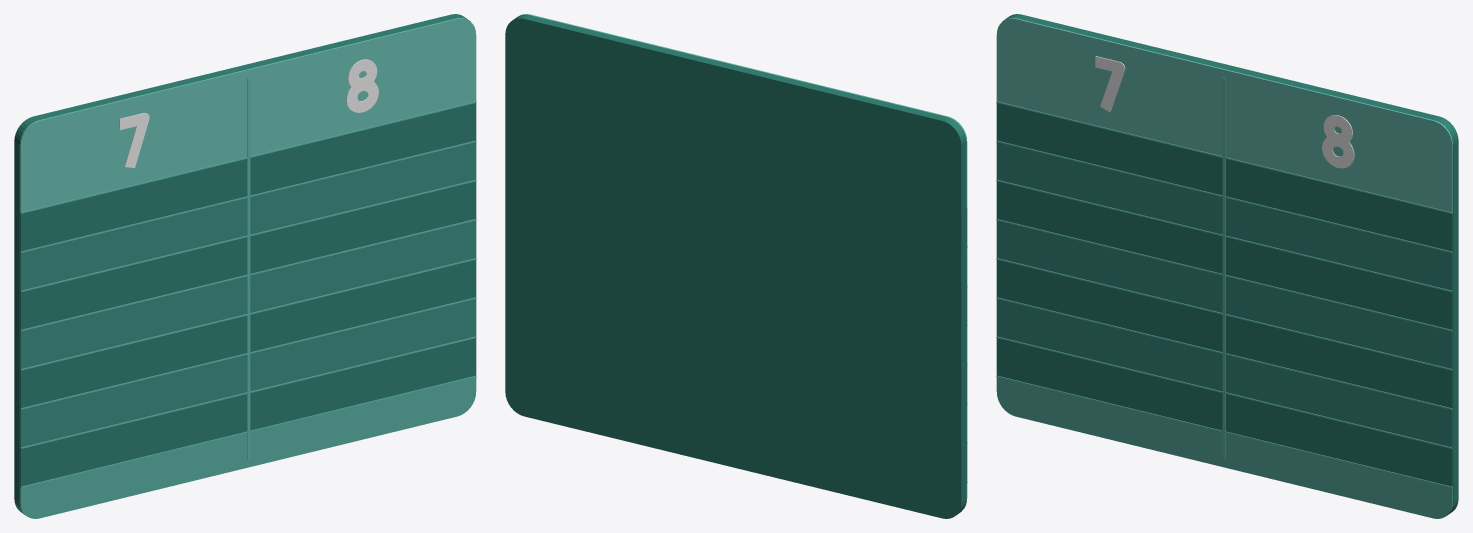
The model's file is Information board_7and8.glb.
3 renders of one model, left to right at view 1: azimuth 30°, elevation 25°; view 2: azimuth 150°, elevation 25°; view 3: azimuth 330°, elevation 25°, orthographic.
Parts seen in each view (by area): view 1: LibSign78_Header, LibSign78_Band_4, LibSign78_Band_0, LibSign78_Band_3, LibSign78_Band_1, LibSign78_Band_6, LibSign78_Band_2, LibSign78_Band_5, LibSign78_Footer, LibSign78_Plate, LibSign78_Divider, LibSign78_Number_8 (+9 smaller); view 2: LibSign78_Plate, LibSign78_Header; view 3: LibSign78_Header, LibSign78_Band_0, LibSign78_Band_4, LibSign78_Band_3, LibSign78_Band_1, LibSign78_Band_6, LibSign78_Band_2, LibSign78_Band_5, LibSign78_Footer, LibSign78_Plate, LibSign78_Divider, LibSign78_Number_8 (+9 smaller).
Boxes of the visible parts, <box> form: LibSign78_Header: <box>20,18,476,212</box>; LibSign78_Band_4: <box>20,260,476,408</box>; LibSign78_Band_0: <box>20,103,476,251</box>; LibSign78_Band_3: <box>20,220,476,369</box>; LibSign78_Band_1: <box>20,142,476,290</box>; LibSign78_Band_6: <box>20,338,476,486</box>; LibSign78_Band_2: <box>20,181,476,329</box>; LibSign78_Band_5: <box>20,299,476,447</box>; LibSign78_Footer: <box>20,377,476,518</box>; LibSign78_Plate: <box>14,14,470,515</box>; LibSign78_Divider: <box>247,77,250,460</box>; LibSign78_Number_8: <box>346,59,378,112</box>; LibSign78_Plate: <box>505,14,966,518</box>; LibSign78_Header: <box>520,14,967,207</box>; LibSign78_Header: <box>996,18,1452,212</box>; LibSign78_Band_0: <box>996,103,1452,251</box>; LibSign78_Band_4: <box>996,260,1452,408</box>; LibSign78_Band_3: <box>996,220,1452,369</box>; LibSign78_Band_1: <box>996,142,1452,290</box>; LibSign78_Band_6: <box>996,338,1452,486</box>; LibSign78_Band_2: <box>996,181,1452,329</box>; LibSign78_Band_5: <box>996,299,1452,447</box>; LibSign78_Footer: <box>996,377,1452,518</box>; LibSign78_Plate: <box>1002,14,1458,515</box>; LibSign78_Divider: <box>1222,77,1225,460</box>; LibSign78_Number_8: <box>1322,115,1354,168</box>.
Bounding box in the file's own units: 0.6 × 0.5 × 0.015.
